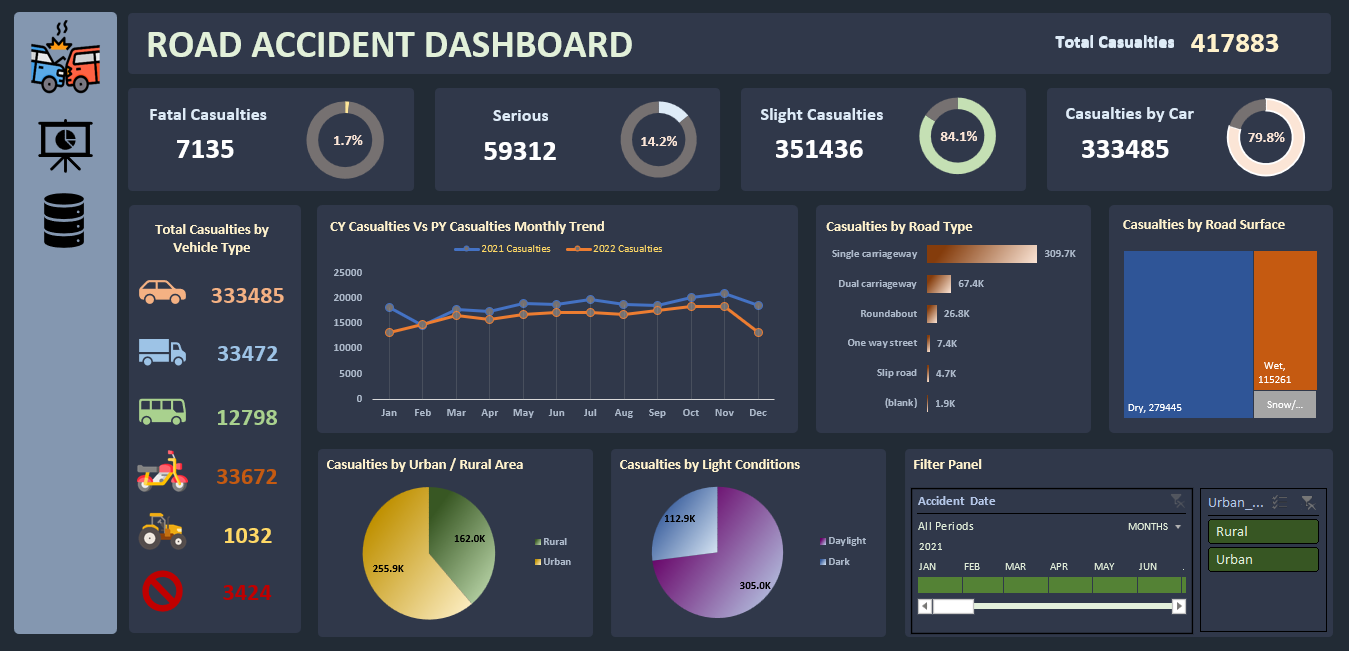

The page's visual inventory and layout, read from the dashboard file:
{"tool":"tableau","page":{"name":"Dashboard 1","canvas":[1600,900],"ordinal":0},"visuals":[{"type":"image","param":"C:/Users/choud/Downloads/Background.pptx (1).jpg","box":[8,8,1584,884]},{"type":"text","box":[48,37,622,71]},{"type":"parameter","param":"[Parameters].[Parameter 1]","box":[888,38,220,67]},{"type":"parameter","param":"[Parameters].[Current Year (copy)_721983324683714561]","box":[1108,38,220,67]},{"type":"parameter","param":"[Parameters].[Parameter 2]","box":[1328,38,220,67]},{"type":"text","box":[487,133,465,30]},{"type":"worksheet","title":"Total Accidents","mark":"Automatic","box":[47,142,205,110]},{"type":"worksheet","title":"Accident Sparkline","mark":"Automatic","rows":["CY Accidents (copy)_721983324686381059","Calculation_721983324684709890"],"cols":["Accident Date"],"box":[252,142,205,110]},{"type":"worksheet","title":"Vehicle type KPI","mark":"Automatic","box":[496,157,1050,100]},{"type":"worksheet","title":"Road Surface","mark":"Pie","rows":["Calculation_685110103097225218","Calculation_685110103097253892"],"box":[828,291,299,267]},{"type":"worksheet","title":"Casualties by location","mark":"Automatic","rows":["Latitude"],"cols":["Longitude"],"box":[1158,291,391,567]},{"type":"worksheet","title":"Weather Condition","mark":"Pie","rows":["Calculation_685110103097225218","Calculation_685110103097253892"],"box":[490,292,309,267]},{"type":"worksheet","title":"Total Casualties","mark":"Automatic","box":[47,293,205,110]},{"type":"worksheet","title":"Total Casualties Sparkline","mark":"Automatic","rows":["CY Casualties (copy)_721983324698898439","Calculation_721983324698161158"],"cols":["Accident Date"],"box":[252,293,205,110]},{"type":"worksheet","title":"Fatal Casualties ","mark":"Automatic","box":[47,446,205,110]},{"type":"worksheet","title":"Fatal Casualties Sparkline ","mark":"Automatic","rows":["CY Fatal Casualties (copy)_721983324703621130","Calculation_721983324702732297"],"cols":["Accident Date"],"box":[252,446,205,110]},{"type":"worksheet","title":"Road Type","mark":"Automatic","rows":["Road_Type"],"cols":["Calculation_721983324698161158"],"box":[494,594,629,267]},{"type":"worksheet","title":"Serious Casualties ","mark":"Automatic","box":[48,596,205,110]},{"type":"worksheet","title":"Serious Casualties Sparkline ","mark":"Automatic","rows":["CY Serious Casualties (copy)_721983324704931853","CY Fatal Casualties (copy)_721983324704714764"],"cols":["Accident Date"],"box":[253,596,205,110]},{"type":"worksheet","title":"Slight Casualties","mark":"Automatic","box":[48,748,205,110]},{"type":"worksheet","title":"Slight Casualties Sparkline ","mark":"Automatic","rows":["CY Slight Casualties (copy)_721983324706267154","CY Fatal Casualties (copy)_721983324705865744"],"cols":["Accident Date"],"box":[253,748,205,110]}]}

Visuals, with their boxes on the page's 1600x900 design canvas (x1, y1, x2, y2). These are canvas units, not pixel positions in the 1349x651 screenshot, which may show the page scaled, cropped or inside an application window:
image: BBox(8, 8, 1592, 892)
text: BBox(48, 37, 670, 108)
parameter: BBox(888, 38, 1108, 105)
parameter: BBox(1108, 38, 1328, 105)
parameter: BBox(1328, 38, 1548, 105)
text: BBox(487, 133, 952, 163)
"Total Accidents" worksheet: BBox(47, 142, 252, 252)
"Accident Sparkline" worksheet: BBox(252, 142, 457, 252)
"Vehicle type KPI" worksheet: BBox(496, 157, 1546, 257)
"Road Surface" worksheet (Pie marks): BBox(828, 291, 1127, 558)
"Casualties by location" worksheet: BBox(1158, 291, 1549, 858)
"Weather Condition" worksheet (Pie marks): BBox(490, 292, 799, 559)
"Total Casualties" worksheet: BBox(47, 293, 252, 403)
"Total Casualties Sparkline" worksheet: BBox(252, 293, 457, 403)
"Fatal Casualties " worksheet: BBox(47, 446, 252, 556)
"Fatal Casualties Sparkline " worksheet: BBox(252, 446, 457, 556)
"Road Type" worksheet: BBox(494, 594, 1123, 861)
"Serious Casualties " worksheet: BBox(48, 596, 253, 706)
"Serious Casualties Sparkline " worksheet: BBox(253, 596, 458, 706)
"Slight Casualties" worksheet: BBox(48, 748, 253, 858)
"Slight Casualties Sparkline " worksheet: BBox(253, 748, 458, 858)
